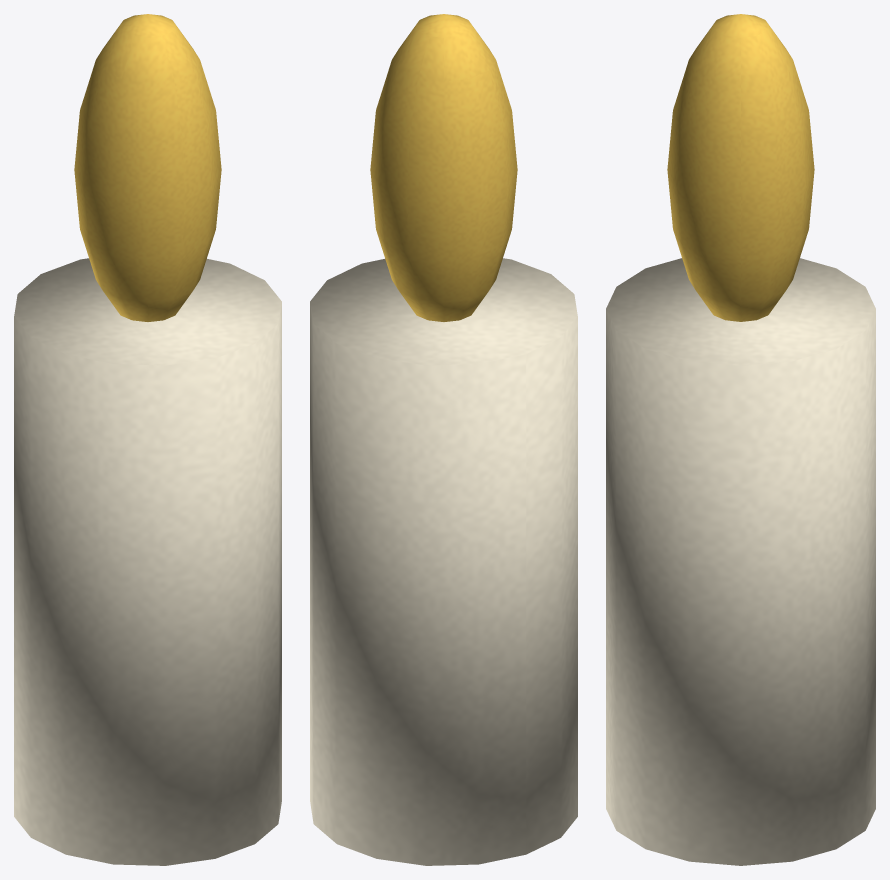
Rendered from farol_vela.obj.
3 views of the same model, side by side, from view 1: azimuth 30°, elevation 25°; view 2: azimuth 150°, elevation 25°; view 3: azimuth 270°, elevation 25° (orthographic).
Parts seen in each view (by area): view 1: farol_vela; view 2: farol_vela; view 3: farol_vela.
Part boxes in pixels (x1=…): farol_vela: x1=14, y1=14, x2=281, y2=865; farol_vela: x1=310, y1=14, x2=577, y2=865; farol_vela: x1=606, y1=14, x2=875, y2=865.
Bounding box in the file's own units: 0.044 × 0.143 × 0.044.
Materials: 2 (2 with a texture image).
